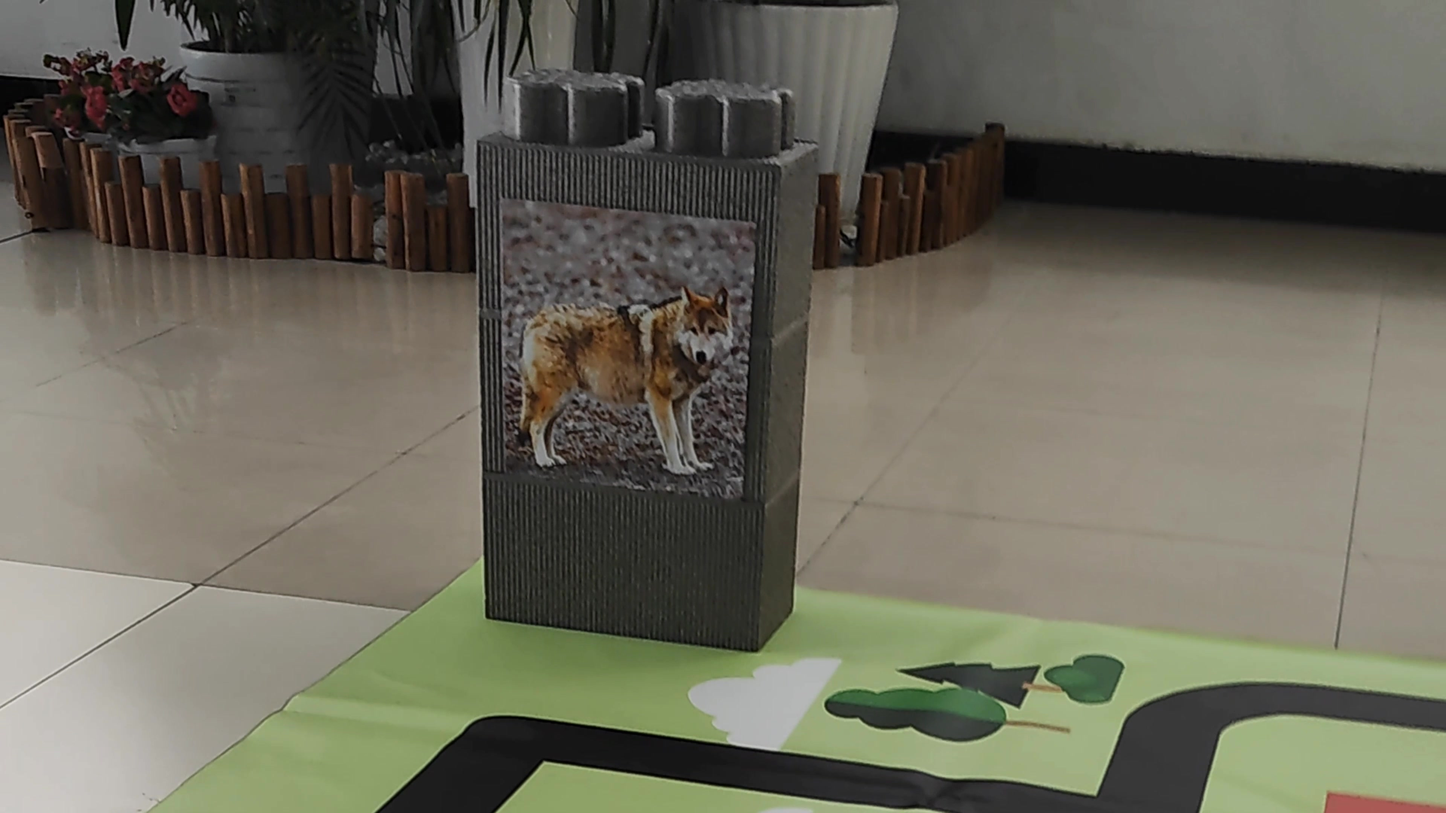wolf: (496, 205, 739, 480)
